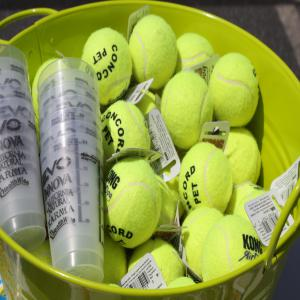TennisBall: (31, 16, 261, 287)
